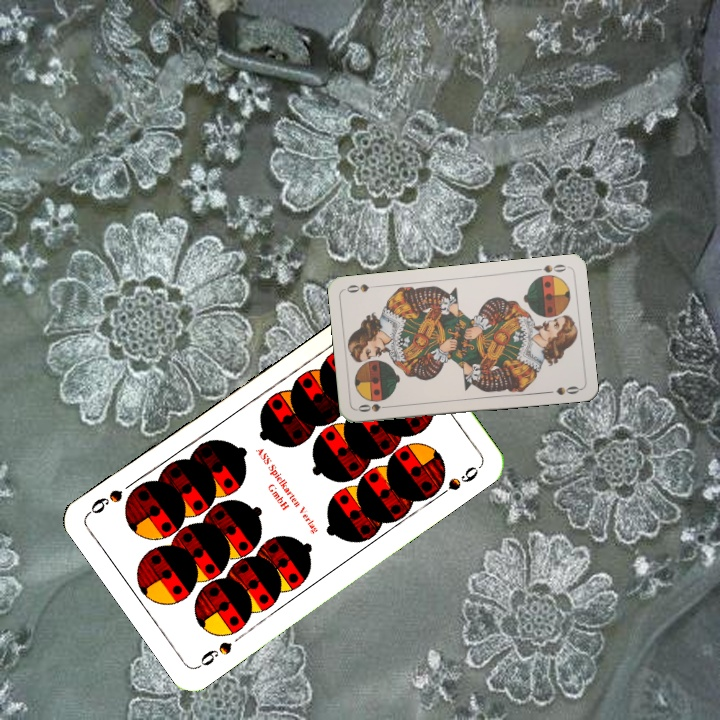S9: (193, 637, 235, 671)
SO: (530, 260, 569, 275), (354, 400, 394, 414)
